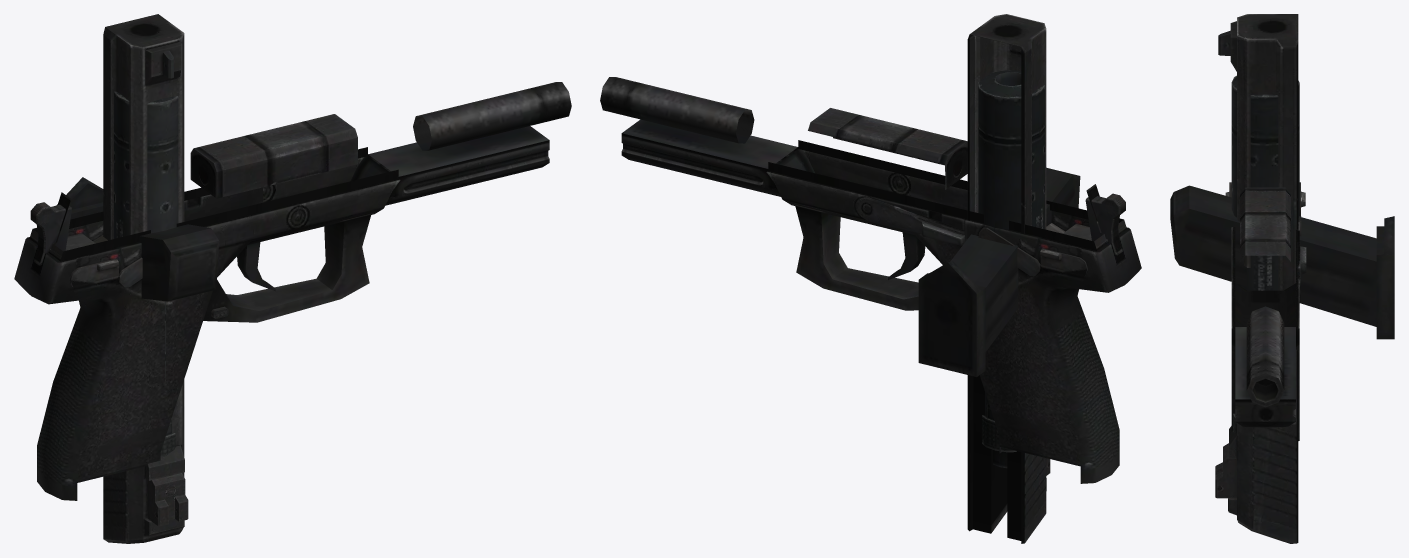
File: MK23_Silencer.obj
3 renders of one model, left to right at view 1: azimuth 30°, elevation 25°; view 2: azimuth 150°, elevation 25°; view 3: azimuth 270°, elevation 25°, orthographic. The views are drawn at different scales.
Parts seen in each view (by area): view 1: Model_MK23_Body, Model_MK23_Handle, Model_Silencer, Model_MK23_Magazine; view 2: Model_MK23_Body, Model_MK23_Handle, Model_MK23_Magazine, Model_Silencer; view 3: Model_MK23_Handle, Model_MK23_Magazine, Model_MK23_Body, Model_Silencer.
Boxes of the visible parts, x1,y1,x2,y2 form: Model_MK23_Body: [14, 82, 571, 500]; Model_MK23_Handle: [103, 14, 188, 543]; Model_Silencer: [114, 91, 178, 456]; Model_MK23_Magazine: [56, 177, 219, 301]; Model_MK23_Body: [600, 77, 1141, 483]; Model_MK23_Handle: [967, 14, 1050, 543]; Model_MK23_Magazine: [918, 167, 1080, 376]; Model_Silencer: [978, 70, 1044, 468]; Model_MK23_Handle: [1215, 14, 1298, 543]; Model_MK23_Magazine: [1170, 185, 1394, 339]; Model_MK23_Body: [1225, 182, 1306, 440]; Model_Silencer: [1231, 75, 1299, 433].
Size of the model in its own units: 0.2378 by 0.2181 by 0.088.
Materials: 2 (2 with a texture image).
